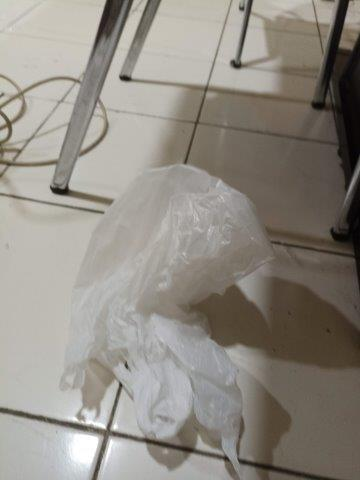plastik: (68, 164, 268, 471)
